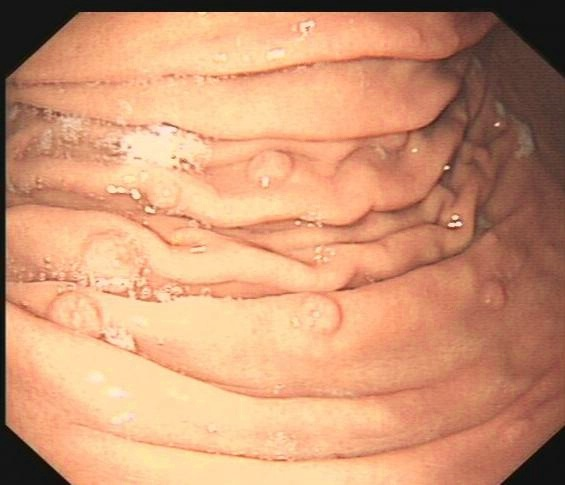Polyp: (76, 231, 144, 288)
